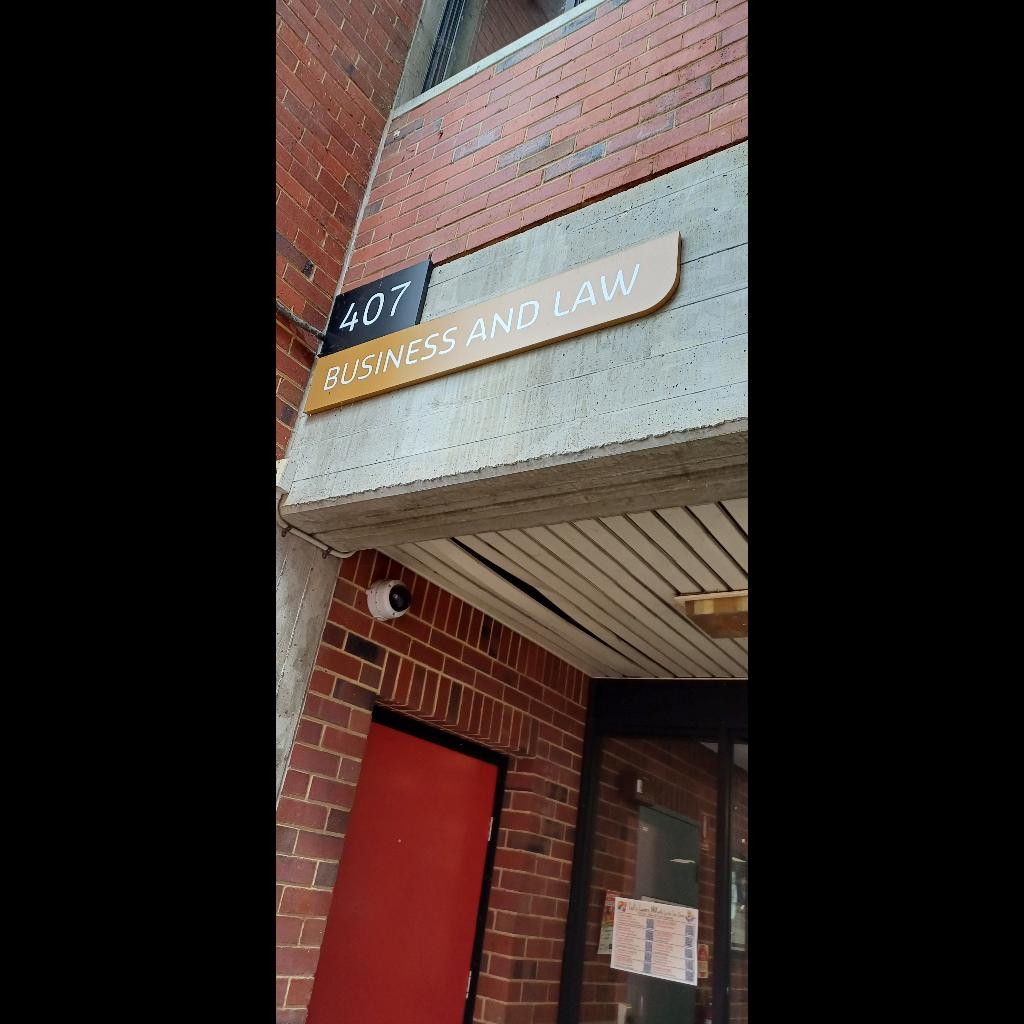BuildingCodes: (336, 269, 412, 333)
